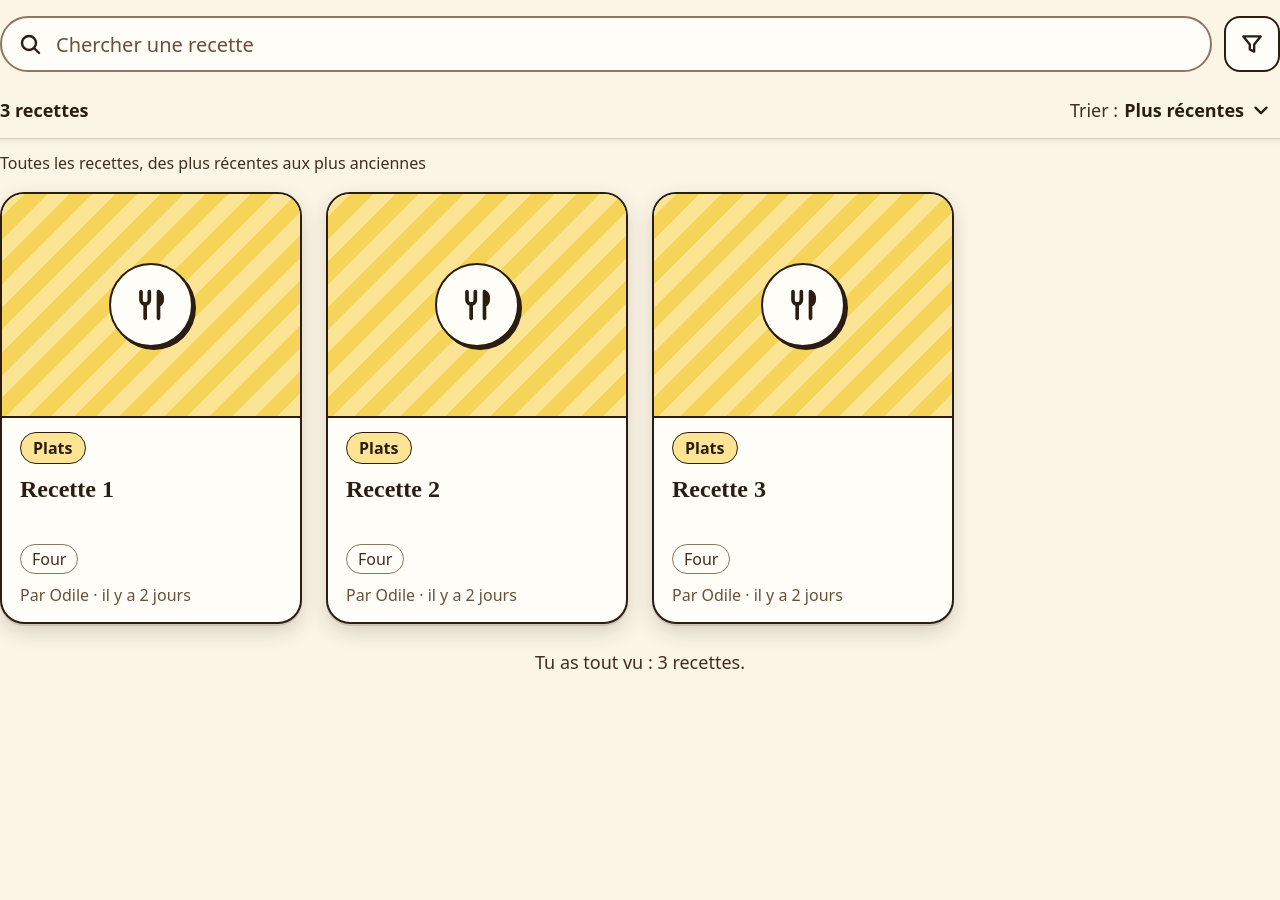
it: FiltersControl in the screen › drops the draft when the sheet is closed without applying it
expect the link "Recette 1" is shown: met, box [0, 192, 302, 624]
Click the button named "Filtres". click: (1252, 44)
box: [1224, 16, 1279, 72]
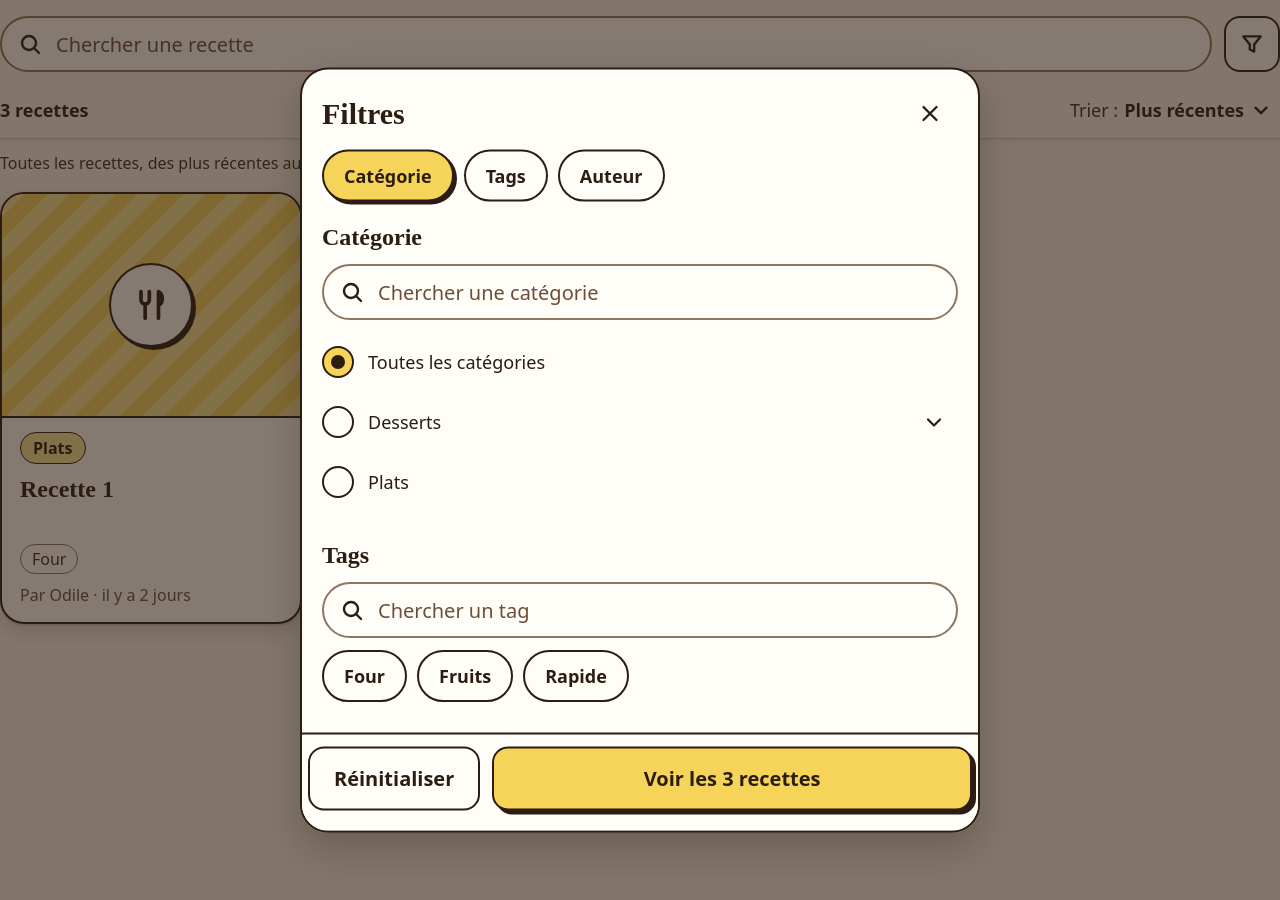
Click the radio button labelled "Plats". click: (365, 482)
box: [322, 466, 409, 498]
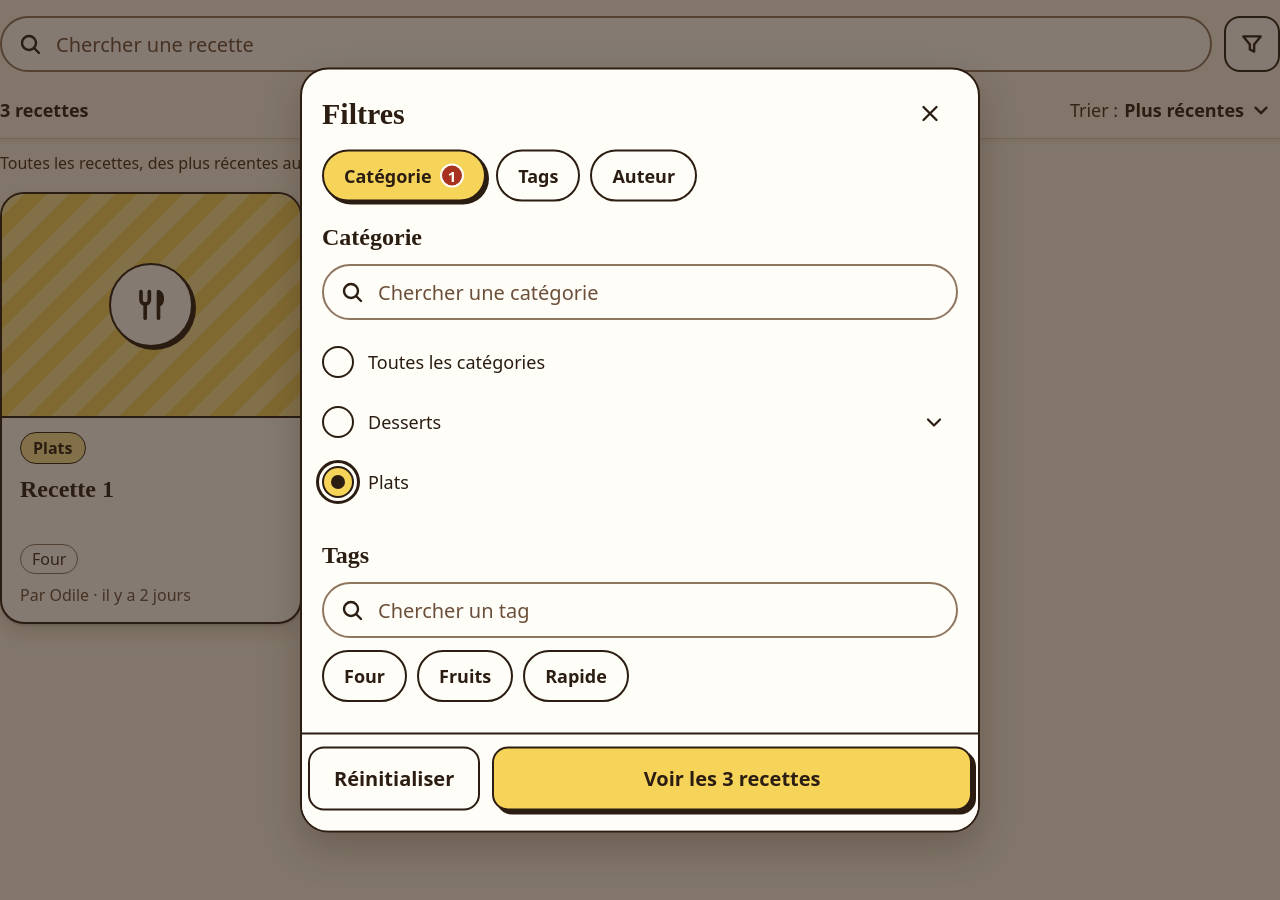
Click the button named "Fermer". click: (930, 114)
box: [902, 86, 958, 142]
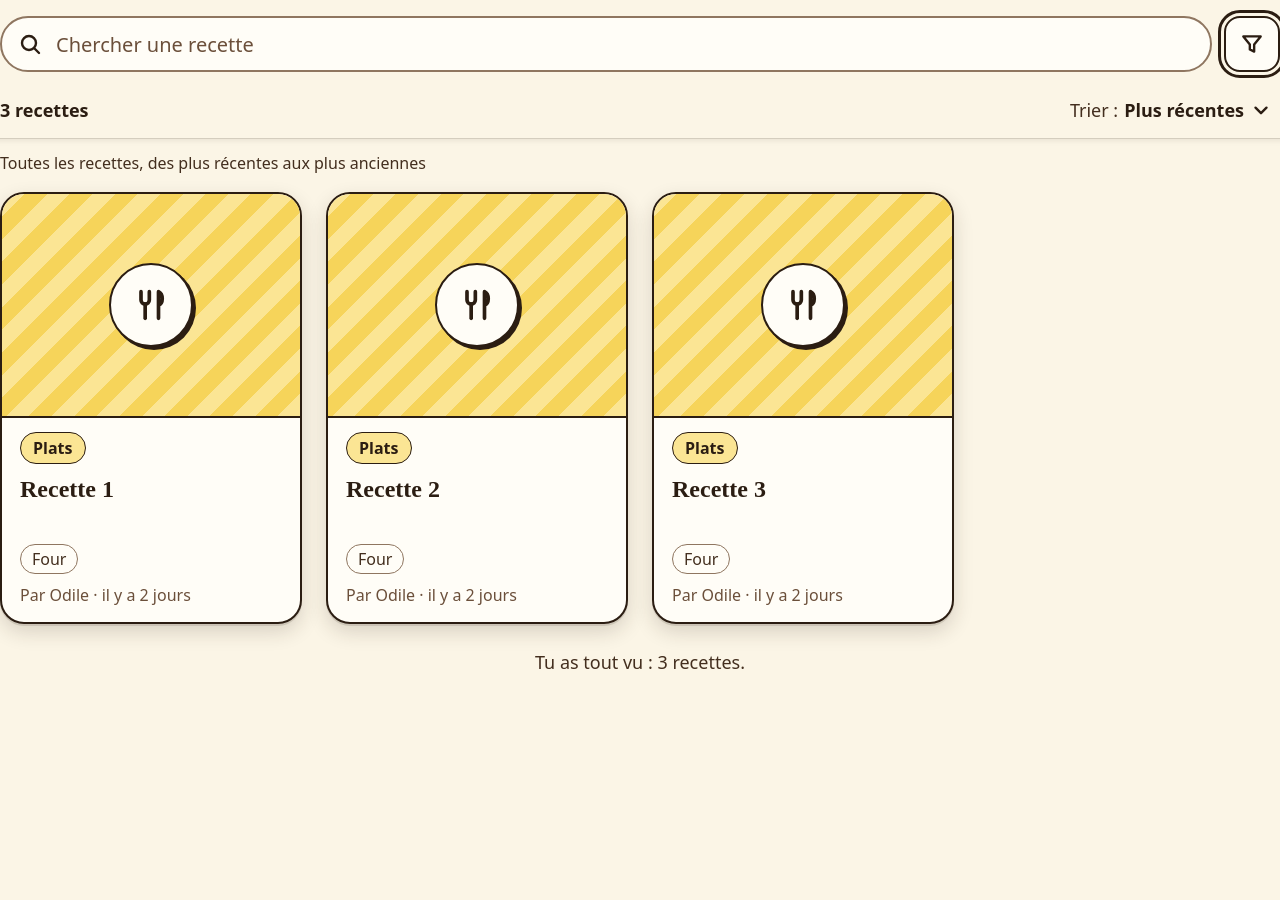
Click the button named "Filtres". click: (1252, 44)
box: [1224, 16, 1279, 72]
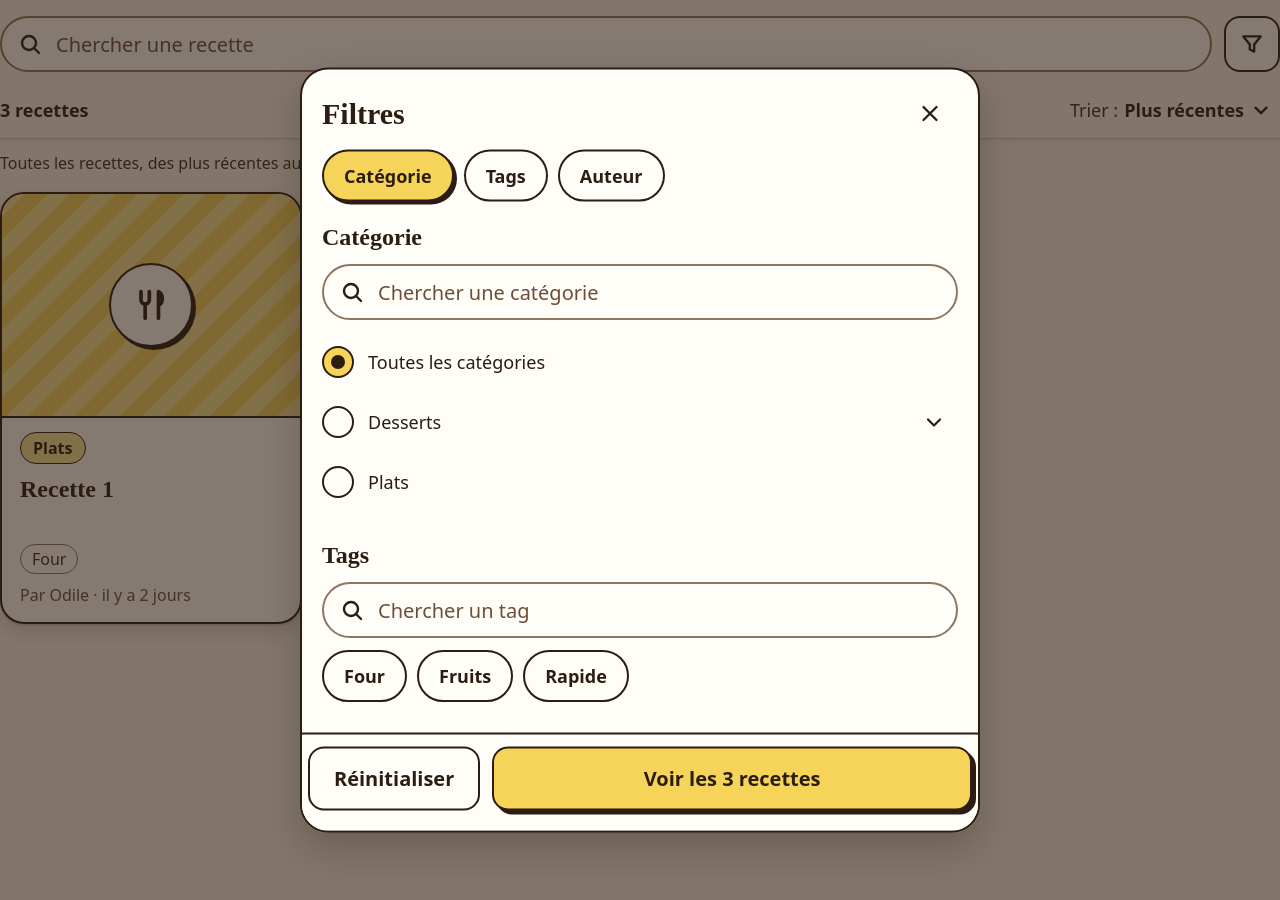
expect the radio button labelled "Toutes les catégories" is checked: met, box [322, 346, 545, 378]
